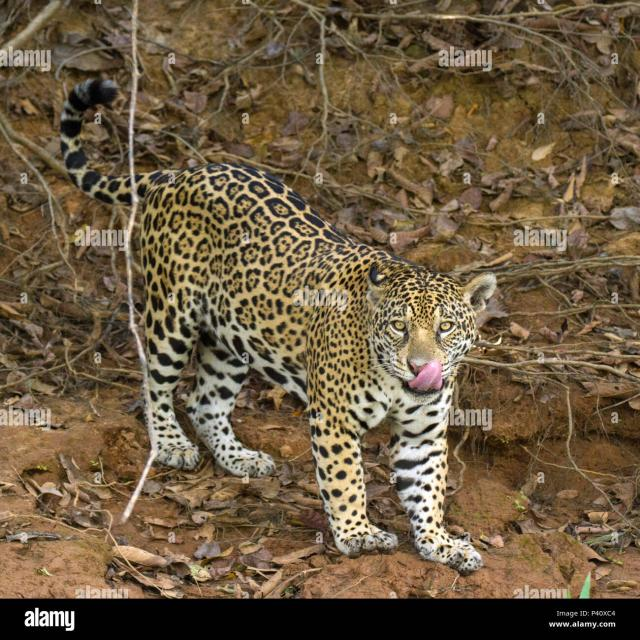Jaguar: (58, 76, 499, 576)
